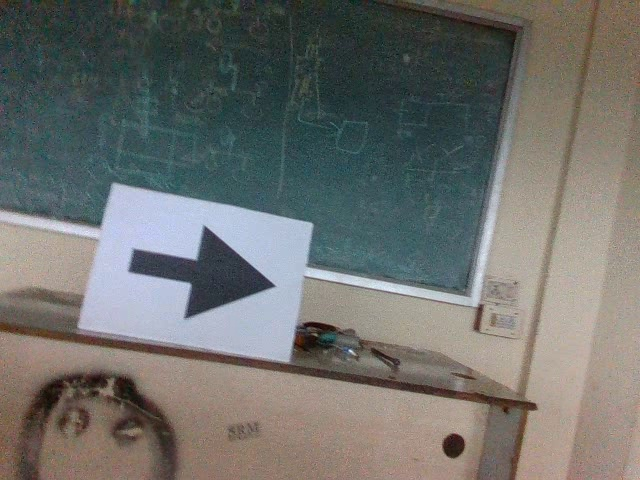Right: (120, 218, 282, 323)
